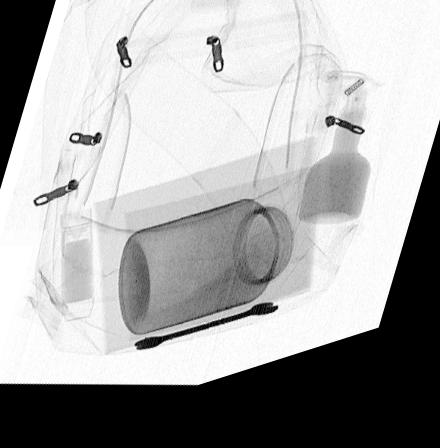Wrench: (130, 319, 280, 361)
